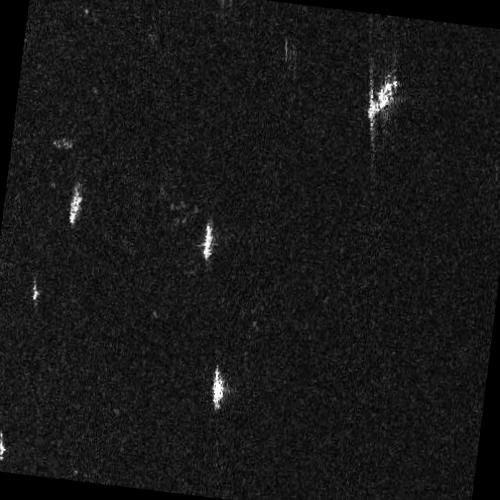ship: (365, 77, 398, 122), (68, 183, 84, 228), (211, 365, 224, 412), (202, 220, 215, 263), (31, 279, 38, 304), (0, 430, 5, 461)
